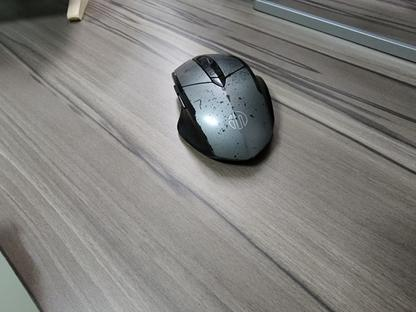mouse: (171, 52, 274, 165)
